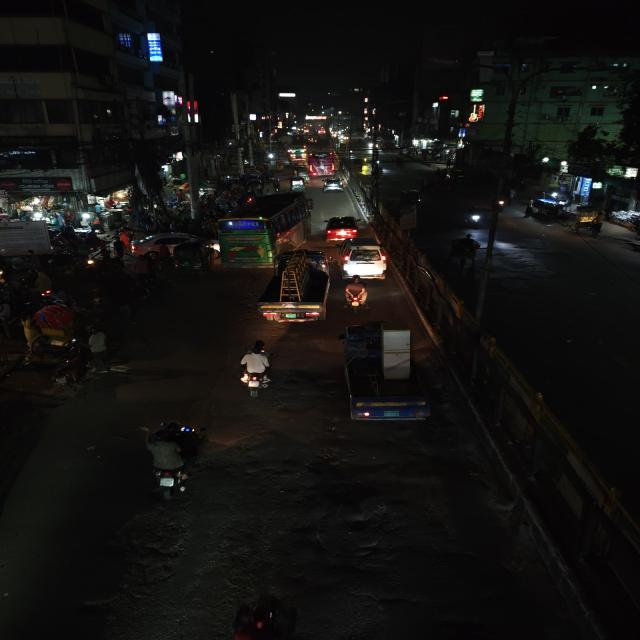bicycle: (341, 275, 368, 313)
bus: (216, 190, 313, 266), (306, 146, 339, 177), (286, 140, 308, 160)
car: (336, 237, 391, 280), (128, 230, 210, 256), (324, 214, 363, 242), (321, 176, 345, 194)
cng: (171, 240, 210, 276), (399, 188, 426, 206), (288, 177, 307, 191)
motorcycle: (130, 418, 211, 502), (218, 587, 308, 640), (234, 340, 278, 400), (50, 347, 97, 389), (25, 268, 58, 302), (342, 276, 368, 313), (462, 203, 485, 229)
pedestrian: (84, 327, 112, 370), (524, 196, 535, 220)
pickup_van: (337, 317, 432, 428), (255, 250, 334, 328)
rickshaw: (28, 306, 86, 357), (445, 234, 482, 270)
